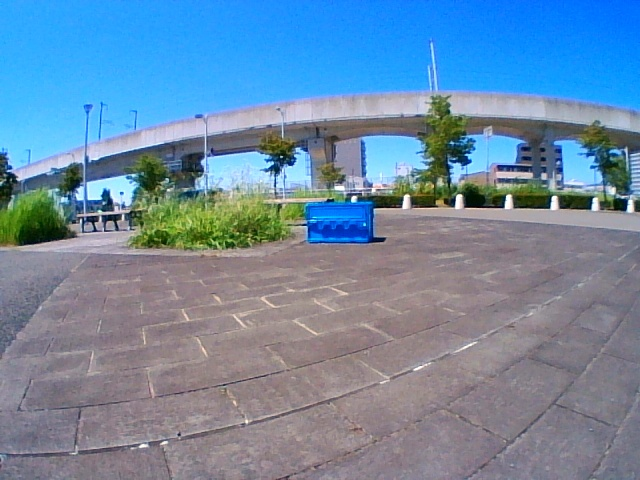blue_box: (306, 205, 372, 242)
